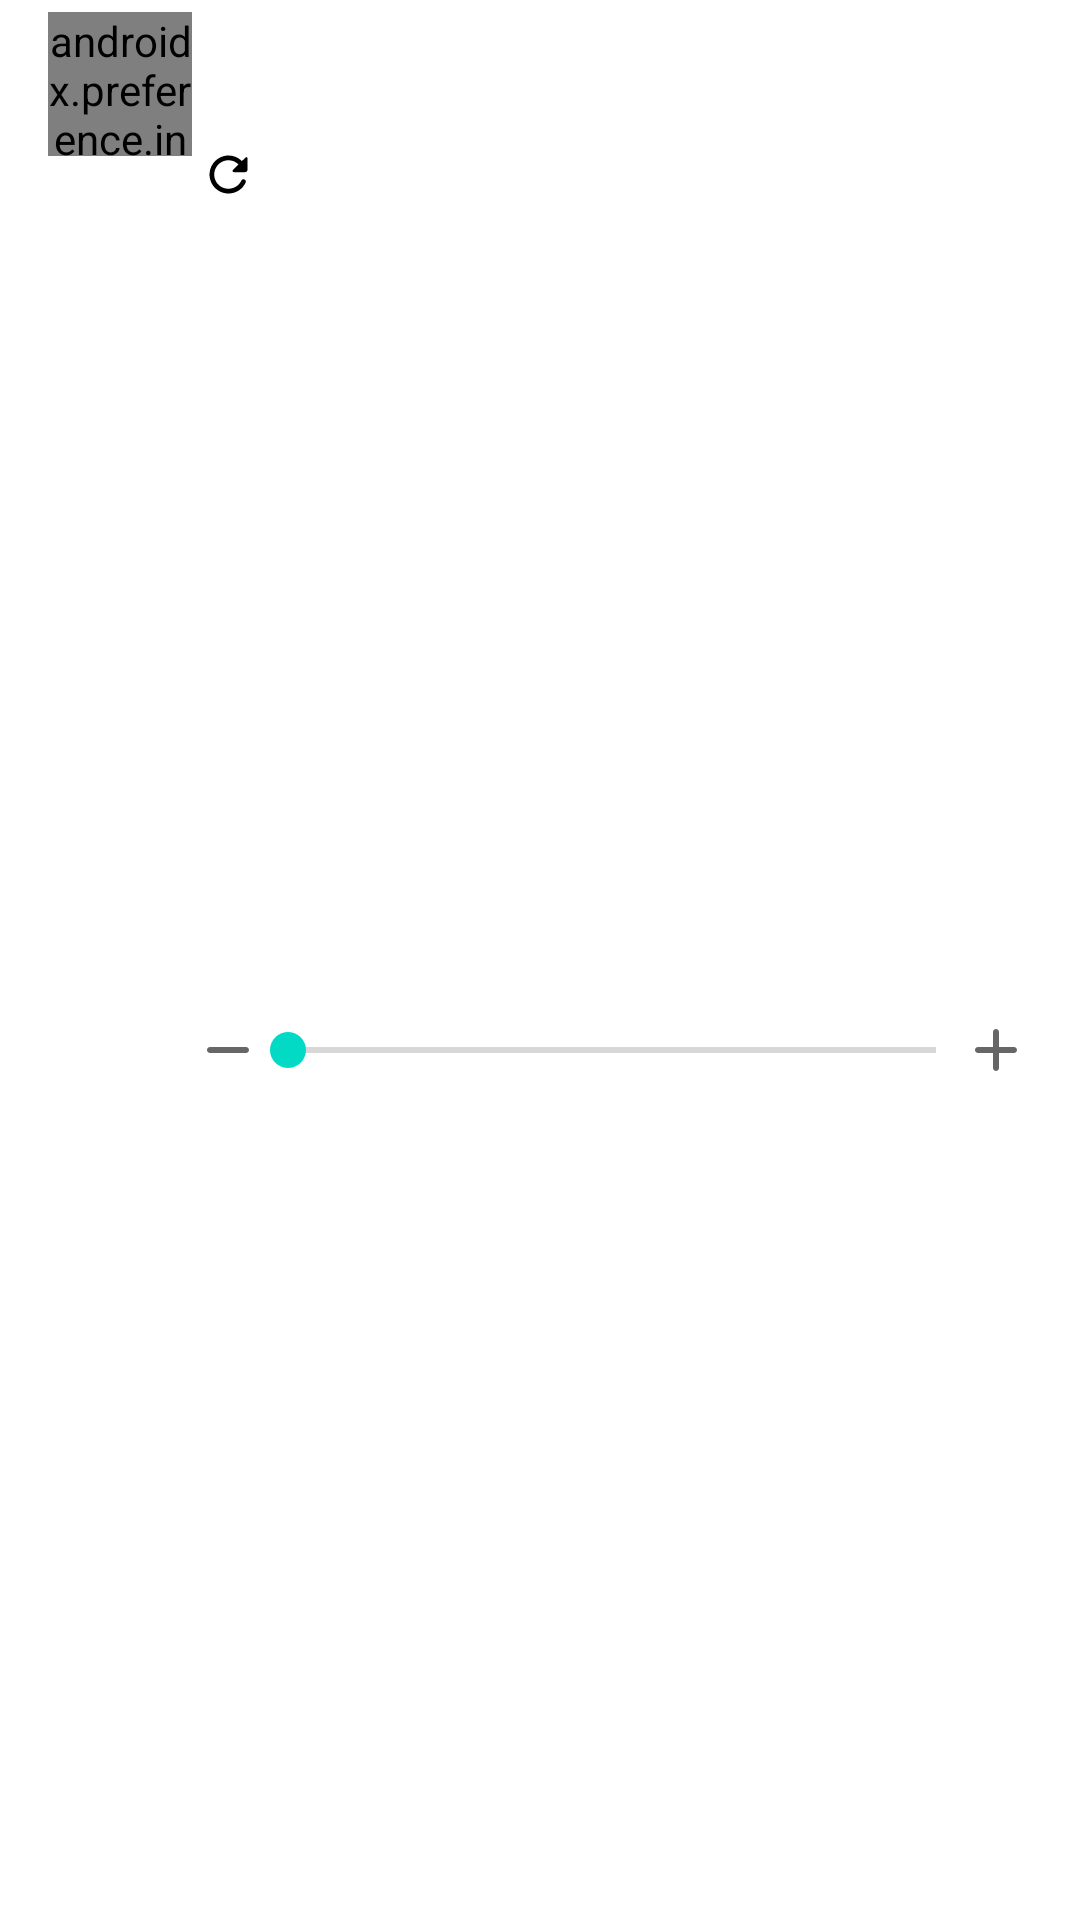

Where icons sit on this 1080×1920 app screen, as (x1, y1, x2, y2):
plus: (975, 1029, 1017, 1071)
refresh: (209, 155, 248, 194)
